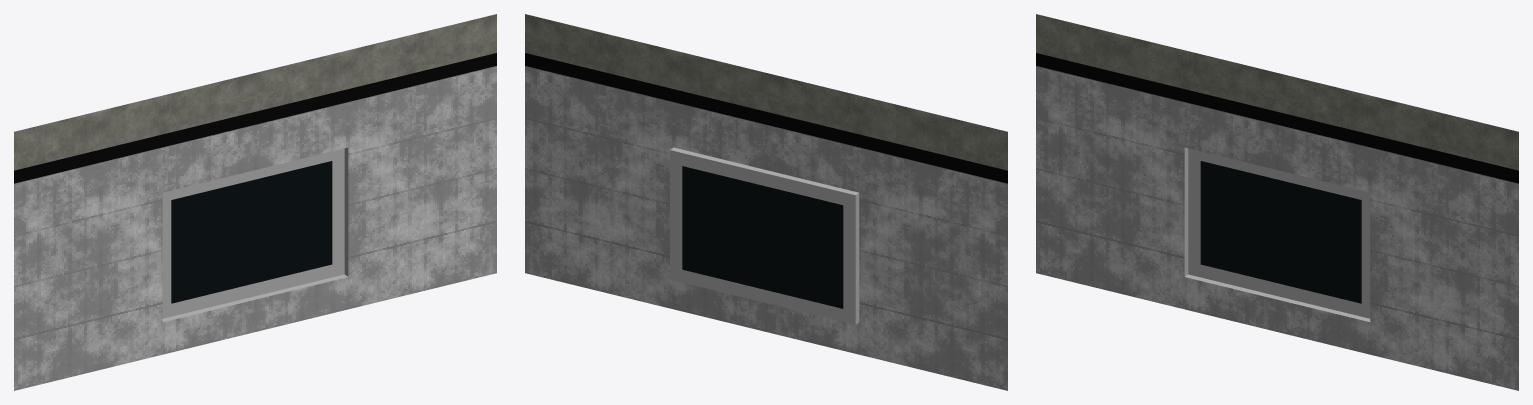
File: StairWall.glb
3 renders of one model, left to right at view 1: azimuth 30°, elevation 25°; view 2: azimuth 150°, elevation 25°; view 3: azimuth 330°, elevation 25°, orthographic.
Visible parts, largest first — view 1: 平面; view 2: 平面; view 3: 平面.
Part boxes in pixels (left/top/right/bottom): 平面: left=14, top=14, right=496, bottom=390; 平面: left=525, top=14, right=1007, bottom=390; 平面: left=1036, top=14, right=1518, bottom=390.
Bounding box in the file's own units: 7.8 × 4 × 0.1.
Materials: 5 (2 with a texture image).
